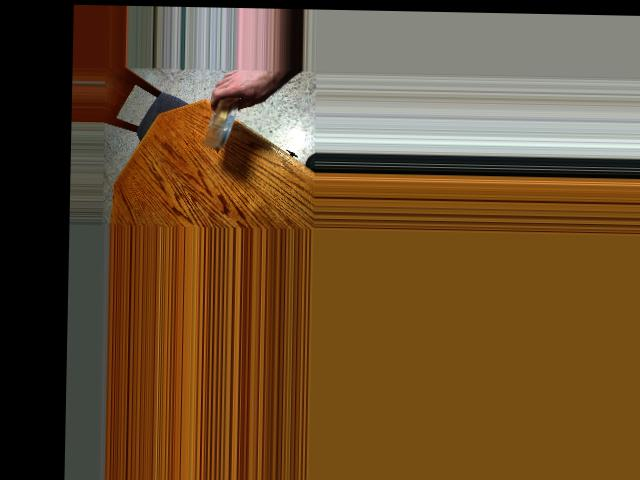cheese: (200, 96, 241, 142)
